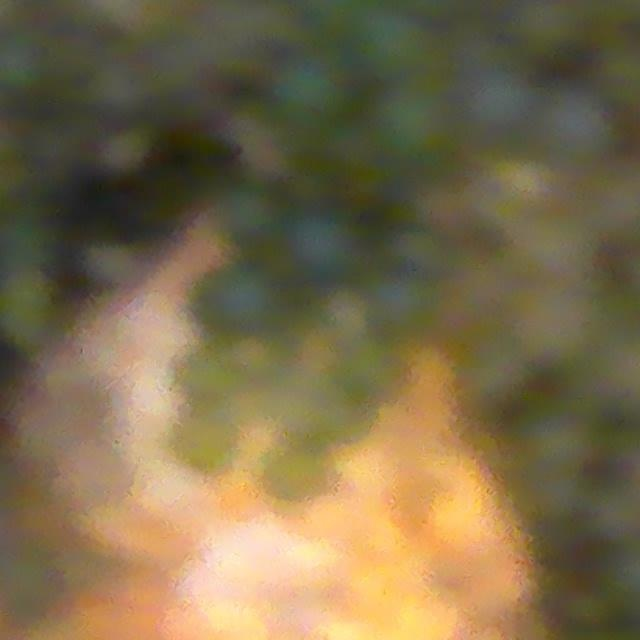SeaGrape: (195, 258, 283, 343), (371, 81, 459, 166), (537, 84, 618, 167), (271, 49, 351, 126), (354, 3, 434, 80), (286, 207, 362, 284), (214, 180, 284, 250), (178, 417, 240, 480)
